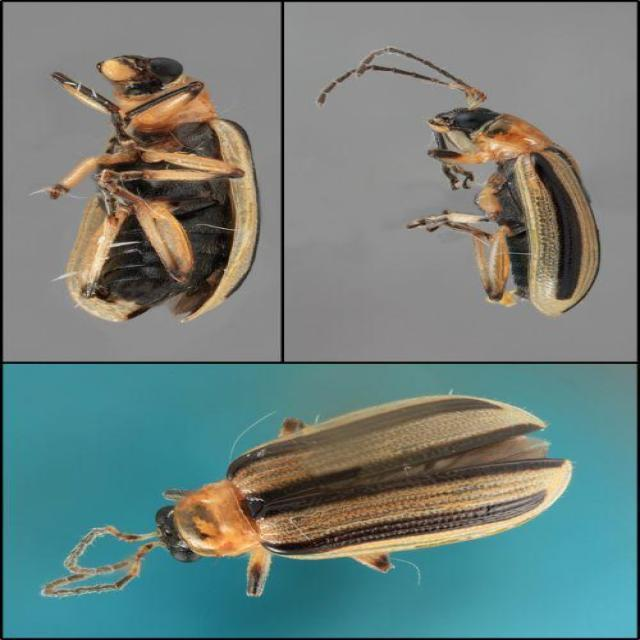trips: (42, 394, 572, 597), (318, 47, 600, 316), (26, 54, 261, 322)
